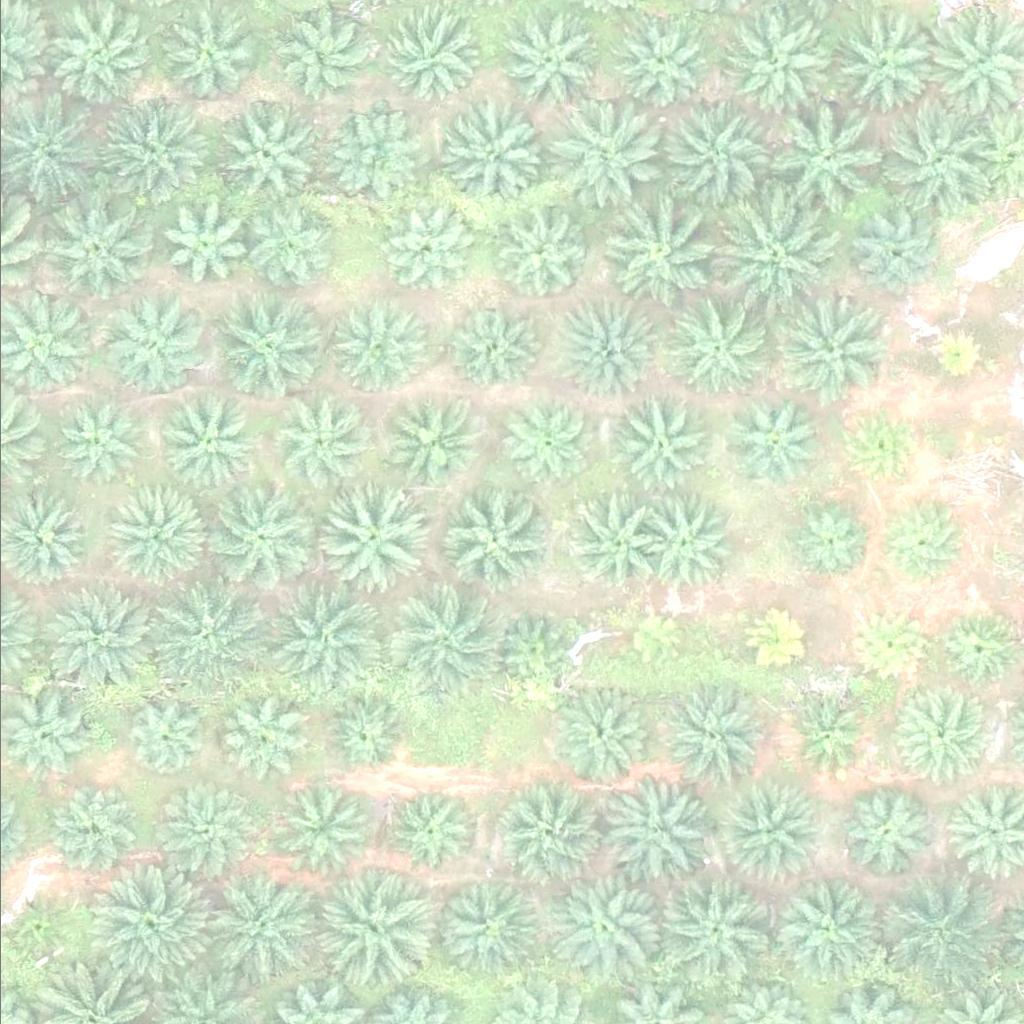Kelapa_Sawit: (542, 873, 656, 986), (658, 680, 772, 793), (265, 587, 379, 700), (437, 484, 551, 597), (661, 876, 774, 989), (324, 873, 437, 986), (593, 778, 706, 891), (310, 477, 423, 590), (658, 99, 771, 212), (89, 93, 202, 206), (874, 875, 987, 988), (711, 196, 824, 309), (762, 102, 875, 215), (540, 98, 654, 210), (203, 872, 316, 984), (92, 869, 205, 981), (387, 590, 500, 702), (147, 578, 260, 690), (35, 586, 148, 698), (203, 480, 316, 592), (602, 192, 715, 304), (37, 189, 150, 301), (775, 293, 888, 405), (879, 108, 992, 220), (729, 10, 842, 122), (435, 879, 536, 979), (718, 779, 819, 879), (495, 792, 596, 892), (554, 693, 655, 793), (634, 493, 735, 593), (721, 387, 822, 487), (605, 394, 706, 494), (381, 394, 482, 494), (264, 396, 365, 496), (153, 392, 254, 492), (665, 300, 766, 400), (332, 297, 433, 397), (213, 296, 314, 396), (104, 293, 205, 393), (492, 205, 593, 305), (437, 105, 538, 205), (208, 109, 309, 209), (495, 10, 596, 110), (375, 2, 476, 102), (275, 7, 376, 107), (43, 3, 144, 103), (827, 778, 928, 878), (890, 682, 991, 782), (827, 15, 928, 115), (107, 490, 207, 590), (551, 296, 651, 396), (326, 101, 426, 201), (777, 883, 877, 983), (495, 397, 584, 485), (162, 787, 250, 875), (211, 696, 299, 784), (117, 692, 205, 780), (482, 610, 570, 698), (567, 502, 655, 590), (452, 302, 540, 390), (879, 501, 967, 589), (787, 501, 875, 589), (847, 599, 935, 687), (854, 214, 942, 302), (380, 788, 469, 875), (50, 404, 139, 491), (266, 792, 354, 879), (46, 785, 134, 872), (314, 691, 402, 778), (384, 203, 472, 290), (243, 203, 331, 290), (155, 200, 243, 287), (613, 22, 701, 109), (160, 11, 248, 98), (837, 402, 925, 489), (787, 692, 875, 779), (737, 604, 813, 679), (3, 900, 66, 963), (921, 319, 984, 382), (621, 609, 684, 671)
